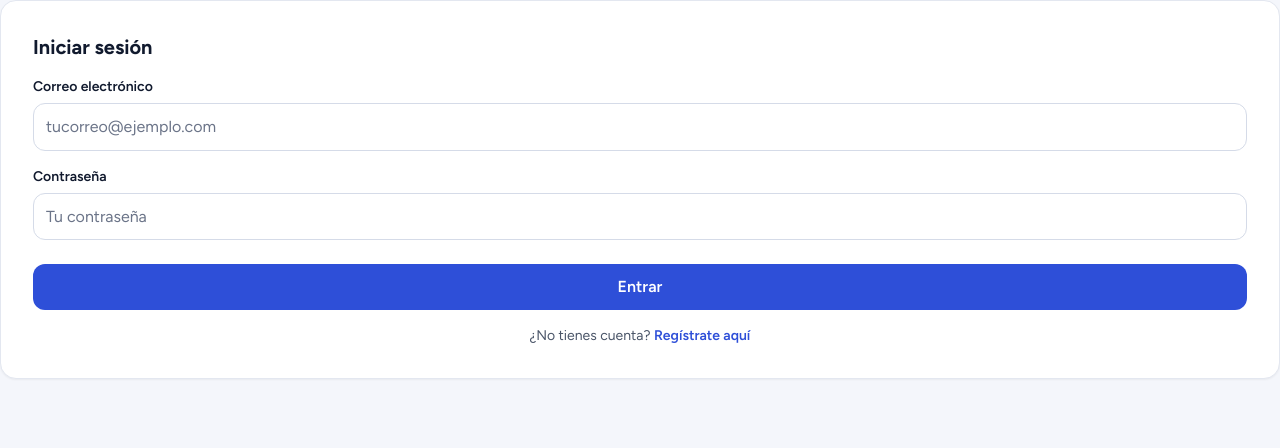
Test: LoginForm › exige correo y contraseña antes de enviar
Click the button "Entrar".
click(640, 287)  # box [33, 264, 1247, 310]
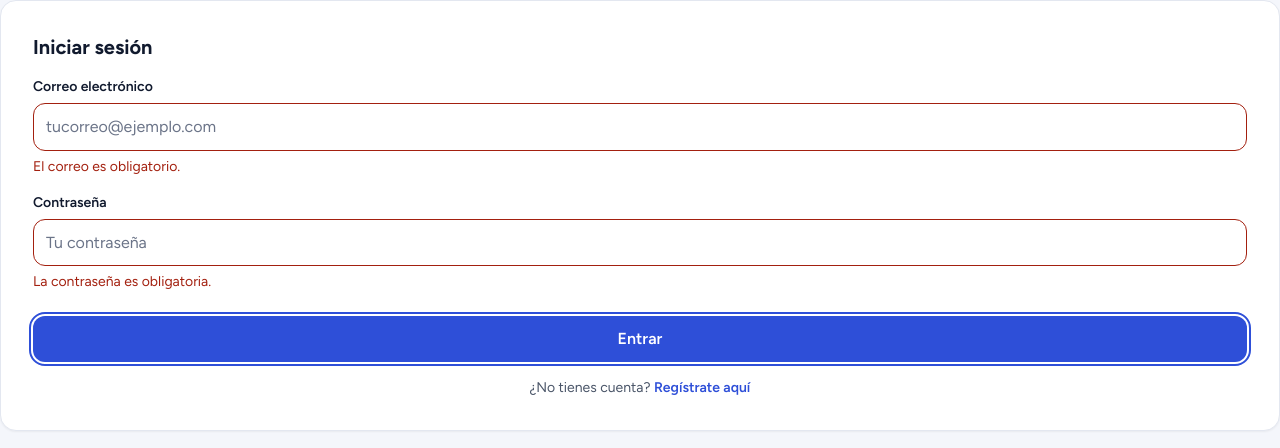
Now the text "El correo es obligatorio." is shown, box [33, 158, 180, 175]
Now the text "La contraseña es obligatoria." is shown, box [33, 273, 211, 290]
